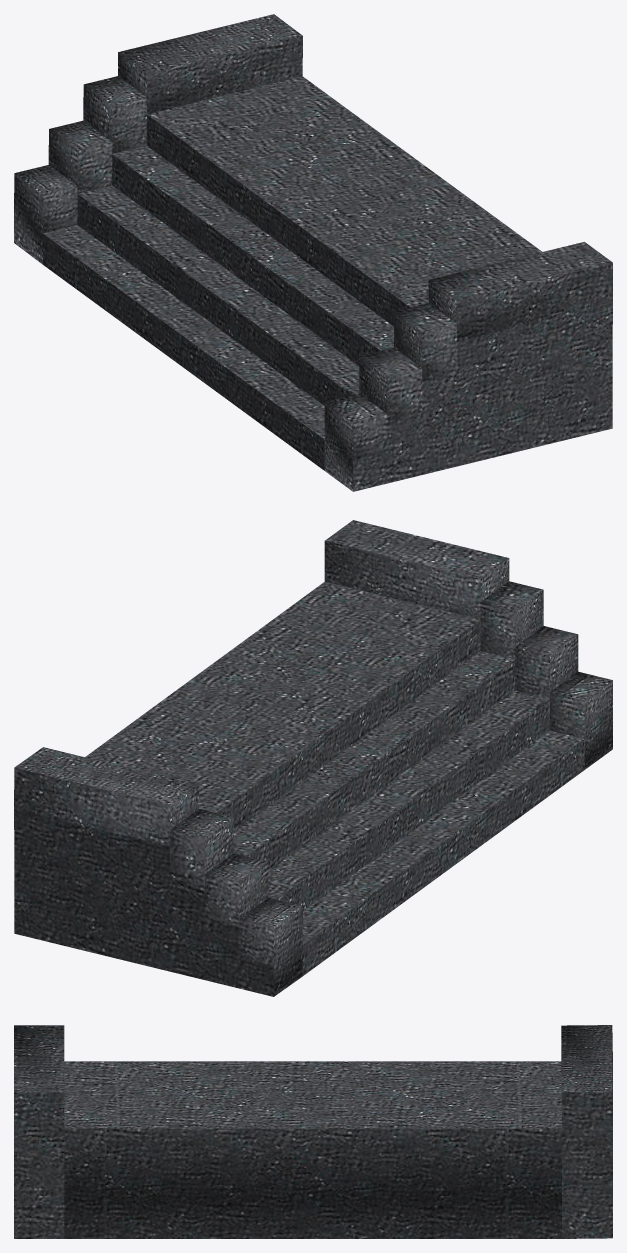
File: gradasalidamonoblock.fbx
3 renders of one model, top to bottom at view 1: azimuth 30°, elevation 25°; view 2: azimuth 150°, elevation 25°; view 3: azimuth 270°, elevation 25°, orthographic. The views are drawn at different scales.
Visible parts, largest first — view 1: stair_big_02; view 2: stair_big_02; view 3: stair_big_02.
Boxes of the visible parts, x1,y1,x2,y2 form: stair_big_02: [14, 14, 612, 491]; stair_big_02: [14, 520, 612, 996]; stair_big_02: [14, 1025, 612, 1238].
Size of the model in its own units: 98.7 by 60.4 by 223.
1 material, 1 textured.
